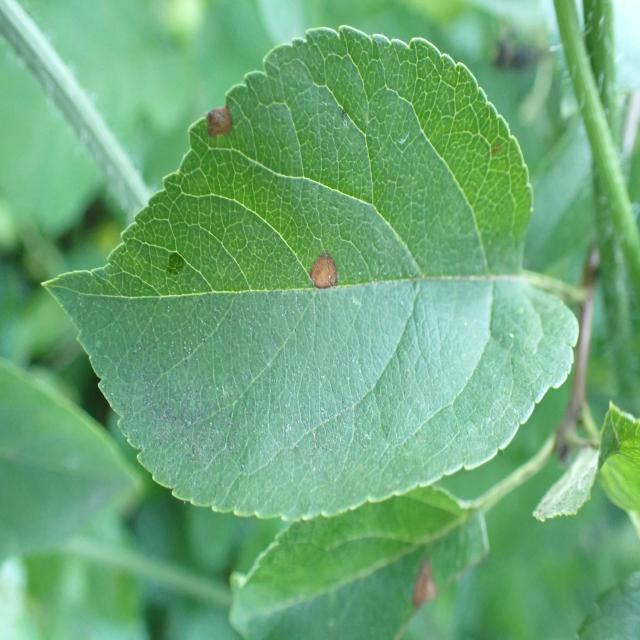Black Rot: (300, 229, 348, 300), (206, 80, 248, 157)
